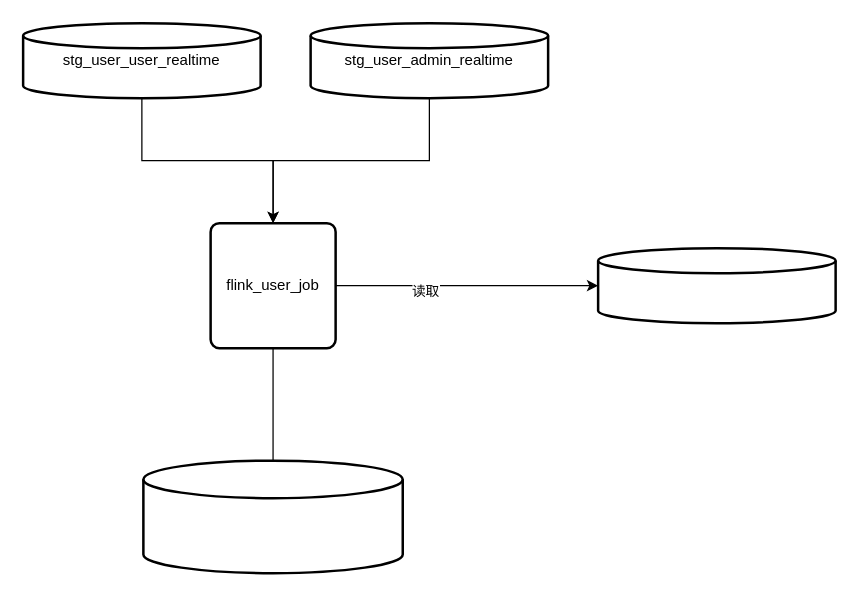
Some shapes in this 858 by 595 pixel diagram are drawn without their labels. The centre of each missing label's shape, as x and y in pixels:
"job_config_topic" belongs at (716,285).
"monitor.user monitor.admin" belongs at (272,516).
